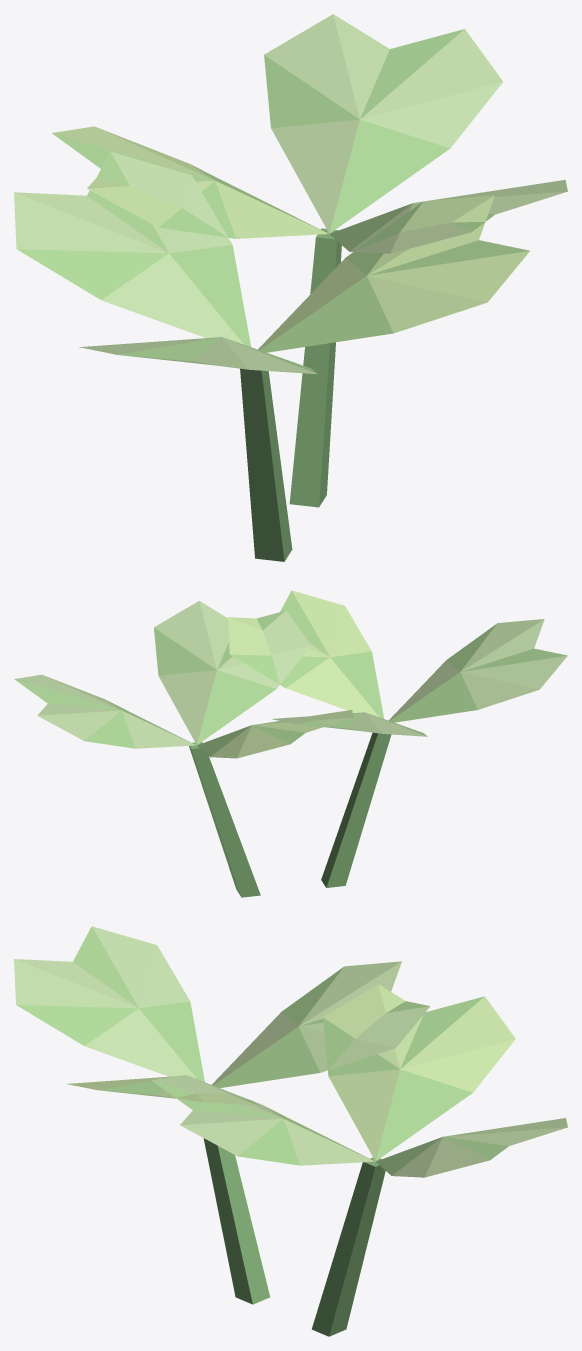
Rendered from crop_clover_s1.glb.
3 renders of one model, top to bottom at view 1: azimuth 30°, elevation 25°; view 2: azimuth 150°, elevation 25°; view 3: azimuth 270°, elevation 25°, orthographic. The views are drawn at different scales.
Parts seen in each view (by area): view 1: crop_clover_s1; view 2: crop_clover_s1; view 3: crop_clover_s1.
Part boxes in pixels (left/top/right/bottom): crop_clover_s1: left=14, top=14, right=567, bottom=561; crop_clover_s1: left=14, top=590, right=567, bottom=897; crop_clover_s1: left=14, top=926, right=567, bottom=1336.
Size of the model in its own units: 0.255 by 0.1372 by 0.255.
